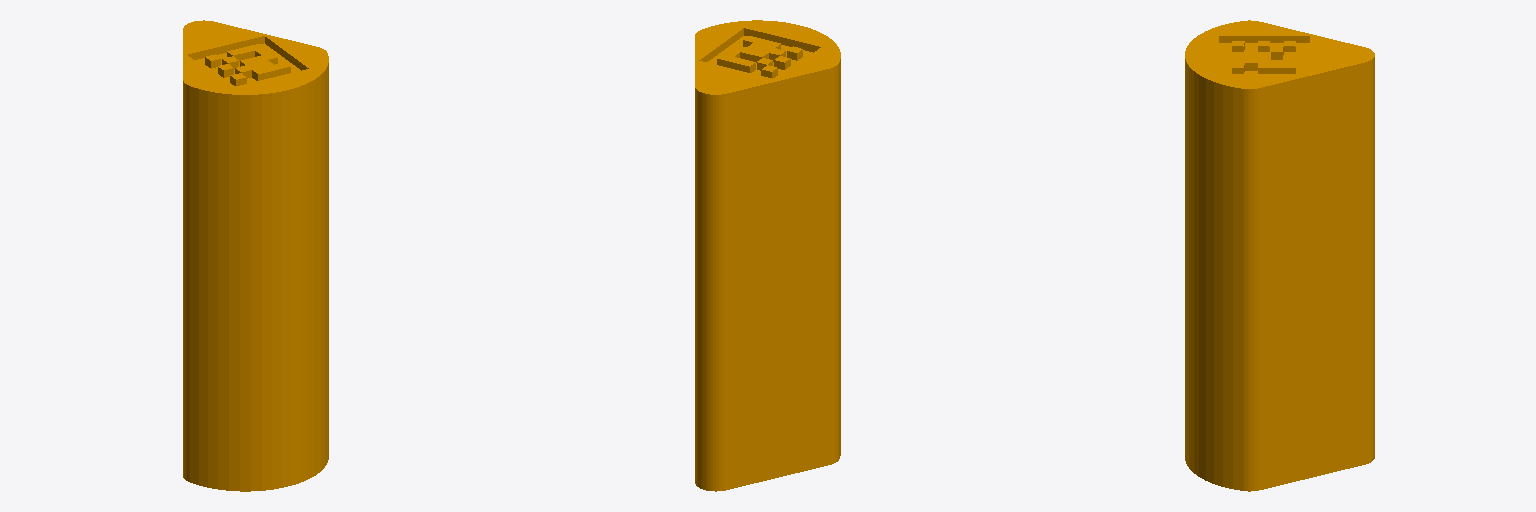
robot.urdf — 50x30_Teardrop:
<?xml version="1.0" ?>
<robot name="50x30_Teardrop">

    <link name="50x30_Teardrop">
        <visual>
            <origin rpy="1.5707963267948966 0 0" xyz="0 0 -0.0525"/>
            <geometry>
                <mesh filename="Shapes/50x30_teardrop.STL" scale=".001 .001 .001"/>
            </geometry>
        </visual>
        <collision>
            <origin rpy="1.5707963267948966 0 0" xyz="0 0 -0.0525"/>
            <geometry>
                <mesh filename="Shapes/50x30_teardrop.STL" scale=".001 .001 .001"/>
            </geometry>
        </collision>
        <inertial>
            <mass value="0.3"/>
            <inertia ixx="0.000029435425" ixy="0.0" ixz="0.0" iyy="0.000029435425" iyz="0.0" izz="0.00000725805"/>
        </inertial>
    </link>

</robot>

--- Facts derived from the render (not from the file) ---
The picture shows the robot from 3 angles, left to right: view 1: azimuth 30°, elevation 25°; view 2: azimuth 150°, elevation 25°; view 3: azimuth 270°, elevation 25°; orthographic projection.
Robot: 50x30_Teardrop — 1 links, 0 joints (none); root link 50x30_Teardrop; default pose: every joint at zero.
Links seen in each view (by area): view 1: 50x30_Teardrop; view 2: 50x30_Teardrop; view 3: 50x30_Teardrop.
Boxes of the visible links, x1,y1,x2,y2 form: 50x30_Teardrop: [183, 20, 328, 491]; 50x30_Teardrop: [695, 20, 840, 491]; 50x30_Teardrop: [1185, 20, 1374, 491].
Bounding box of the posed robot: 0.0385 × 0.045 × 0.105 m (x, y, z).
Meshes: 1 distinct files referenced, 1 mesh visuals loaded (1 binary STL).
